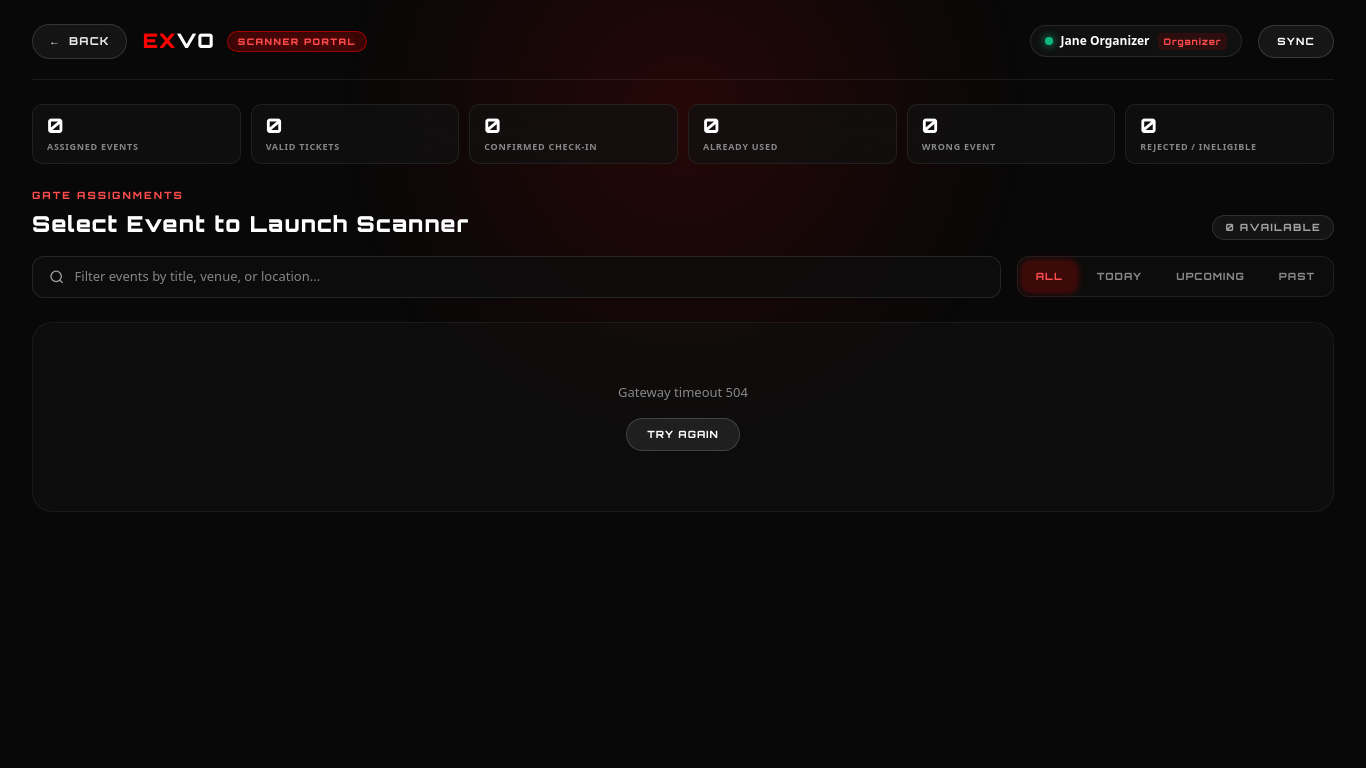
CoordinatorScannerPortal (SCRUM-30) › handles events load error and allows retry
This screenshot has width=1366, height=768.
Expected: the text "Gateway timeout 504" is shown, [618,382,748,400]
# Click Try Again
Step 1. Click the button "TRY AGAIN" → (683, 434), box [626,418,740,451]
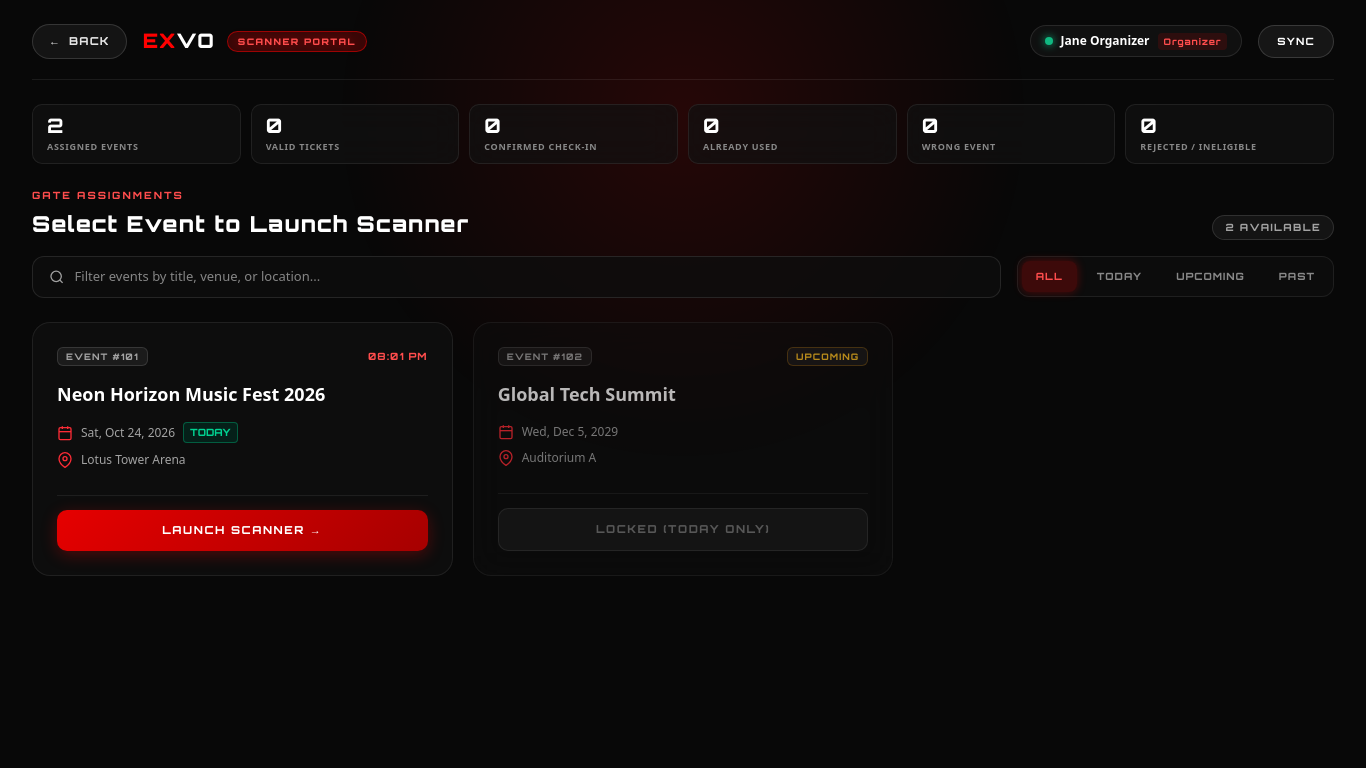
Result: the heading "Neon Horizon Music Fest 2026" is shown at [57,382,325,406]
